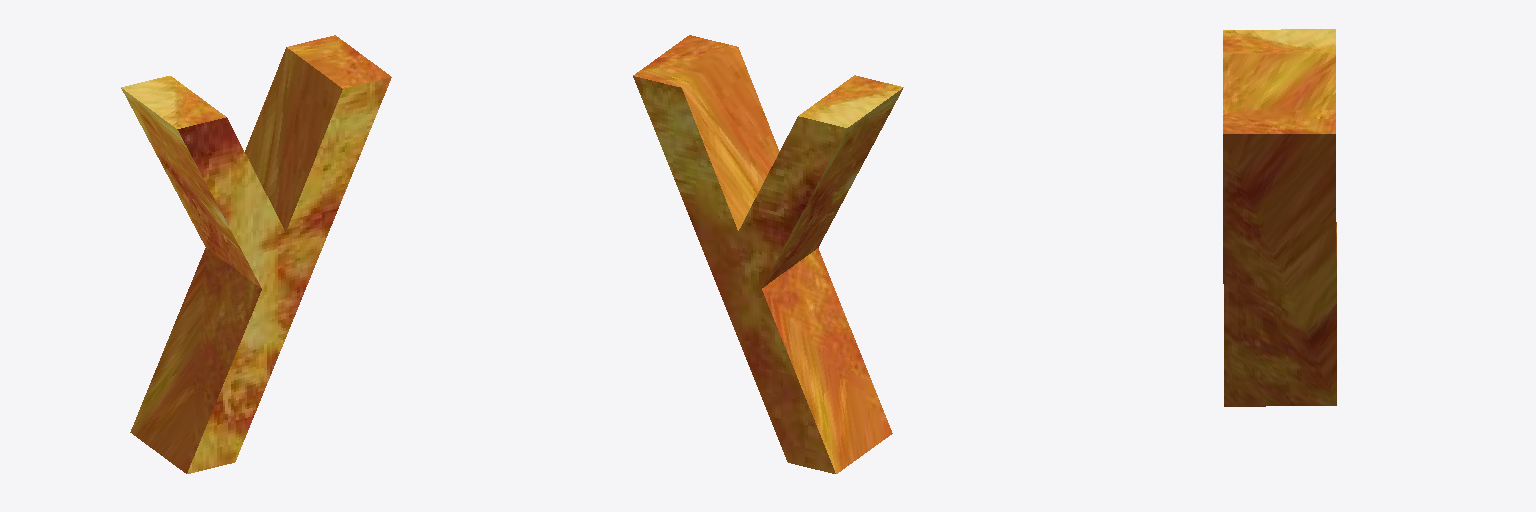
The picture shows the model from 3 angles: view 1: azimuth 30°, elevation 25°; view 2: azimuth 150°, elevation 25°; view 3: azimuth 270°, elevation 25°; orthographic projection.
Visible parts, largest first — view 1: 文本.002_Mesh.004; view 2: 文本.002_Mesh.004; view 3: 文本.002_Mesh.004.
Boxes of the visible parts, <box> form: 文本.002_Mesh.004: <box>121,35,391,473</box>; 文本.002_Mesh.004: <box>633,35,903,473</box>; 文本.002_Mesh.004: <box>1223,29,1336,406</box>.
Size of the model in its own units: 0.5531 by 0.8586 by 0.2565.
1 materials, 1 textured.